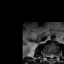CCS_normal: (50, 52, 52, 60)
LFS_stenosis: (54, 52, 56, 58)
LLS_stenosis: (52, 52, 54, 58)
RFS_stenosis: (46, 52, 49, 58)
RLS_stenosis: (49, 52, 50, 59)
